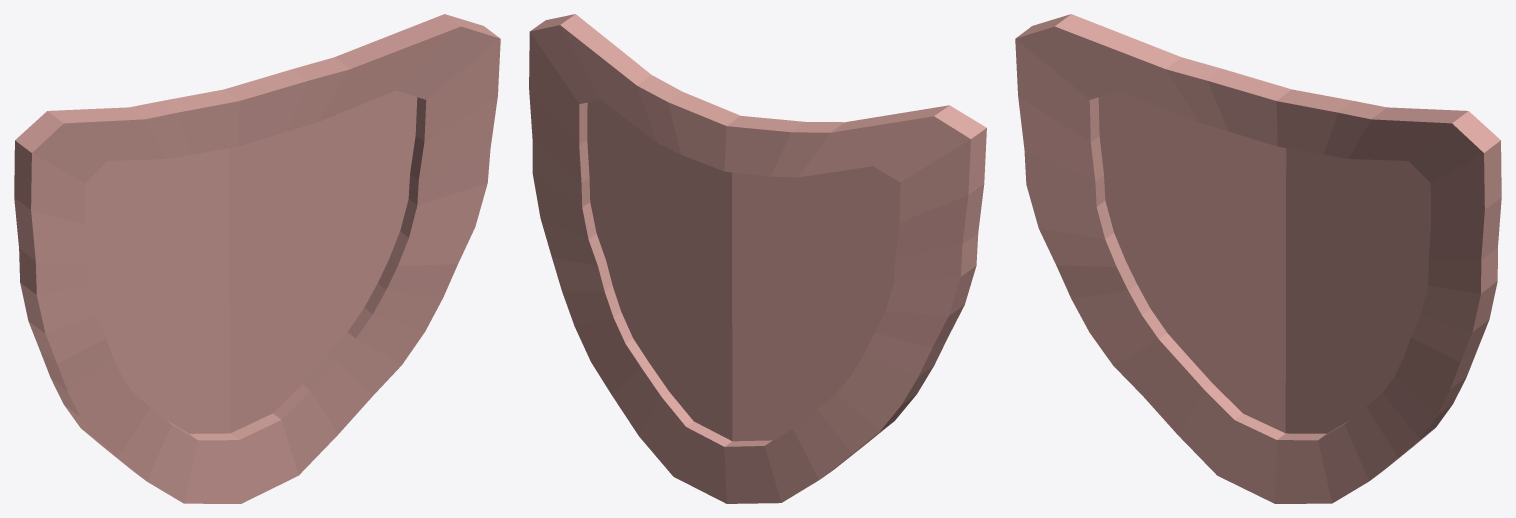
Rendered from ENV_Shield01_Placeholder02.fbx.
The picture shows the model from 3 angles, left to right: view 1: azimuth 30°, elevation 25°; view 2: azimuth 150°, elevation 25°; view 3: azimuth 330°, elevation 25°; orthographic projection. The views are drawn at different scales.
Visible parts, largest first — view 1: Circle.005; view 2: Circle.005; view 3: Circle.005.
Part boxes in pixels (x1,y1,x2,y2): Circle.005: (14,14,500,503); Circle.005: (529,14,986,503); Circle.005: (1015,14,1501,503).
Size of the model in its own units: 14.7 by 89.27 by 80.99.
